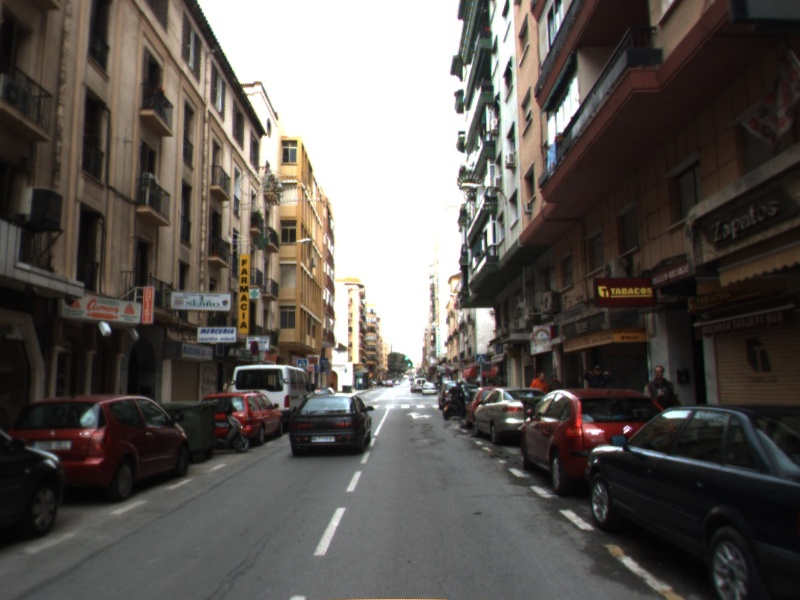STRAIGHT_RIGHT: (405, 411, 433, 421)
